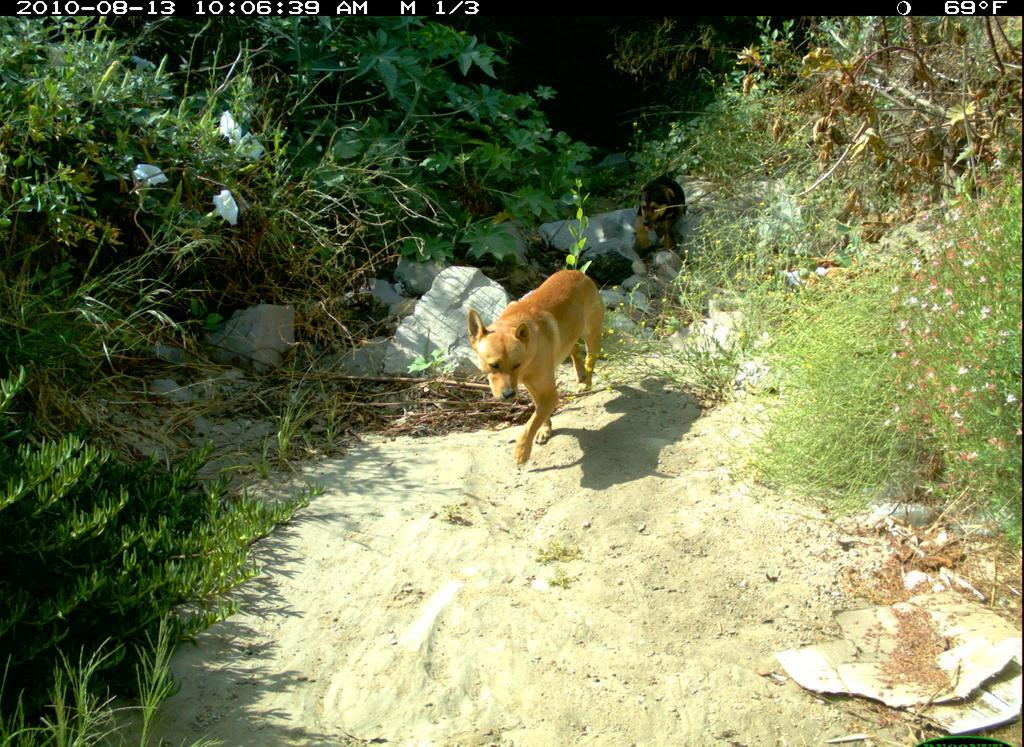dog: (464, 231, 616, 493)
